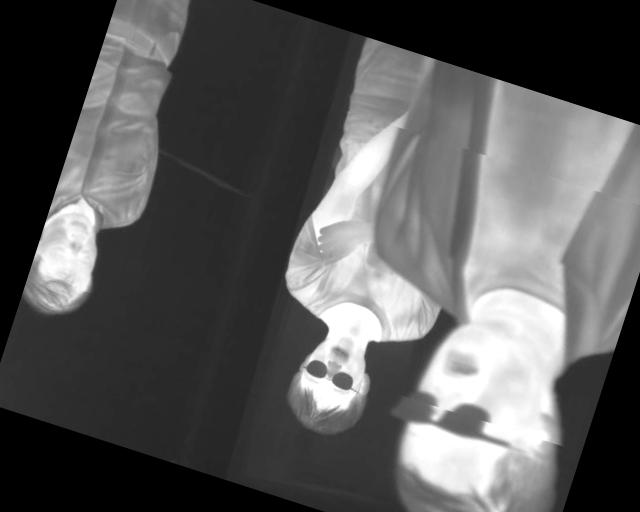face: (372, 309, 595, 512), (277, 321, 383, 445), (18, 202, 114, 328)
